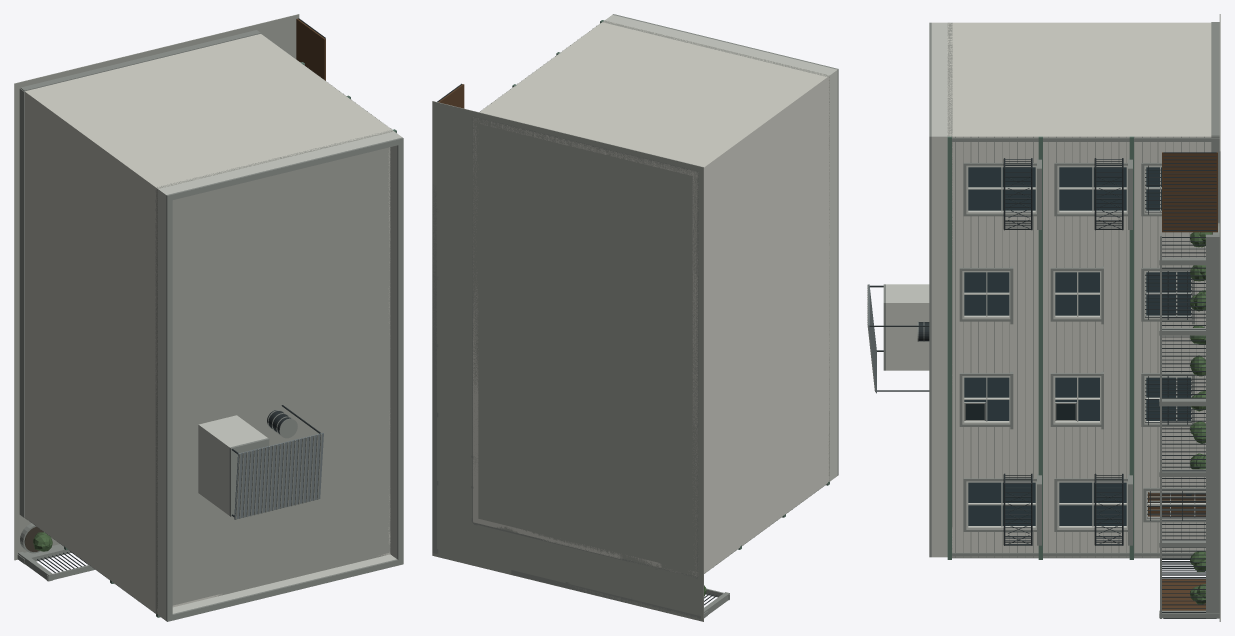
Rendered from 03_corner.obj.
3 renders of one model, left to right at view 1: azimuth 30°, elevation 25°; view 2: azimuth 150°, elevation 25°; view 3: azimuth 270°, elevation 25°, orthographic. The views are drawn at different scales.
Visible parts, largest first — view 1: roof_slab_19224, wall_36, wall_12, parapet_19236, parapet_cap_19268, lot_paving_0, canopy_sheet_19356, rooftop_room_19300, plinth_48, plinth_24, gate_26796, rooftop_room_cap_19332; view 2: lot_paving_0, wall_36, wall_12, parapet_19236, boundary_base_25500, parapet_cap_19268, roof_slab_19224, boundary_base_21416; view 3: wall_12, parapet_19236, boundary_base_25500, gate_26796, rooftop_room_19300, balcony_window_panel_14544, balcony_window_panel_17780, balcony_window_panel_16000, balcony_window_panel_12764, wall_9404, wall_9584, wall_8552 (+63 smaller).
Boxes of the visible parts, left/top/right/bottom form: roof_slab_19224: left=155, top=130, right=393, bottom=614; wall_36: left=24, top=90, right=158, bottom=611; wall_12: left=24, top=34, right=393, bottom=192; parapet_19236: left=158, top=131, right=402, bottom=620; parapet_cap_19268: left=166, top=137, right=403, bottom=621; lot_paving_0: left=14, top=14, right=299, bottom=560; canopy_sheet_19356: left=234, top=432, right=323, bottom=519; rooftop_room_19300: left=198, top=415, right=267, bottom=515; plinth_48: left=19, top=88, right=24, bottom=517; plinth_24: left=20, top=30, right=260, bottom=91; gate_26796: left=296, top=18, right=325, bottom=80; rooftop_room_cap_19332: left=229, top=438, right=269, bottom=516; lot_paving_0: left=432, top=101, right=703, bottom=621; wall_36: left=692, top=76, right=829, bottom=575; wall_12: left=475, top=21, right=829, bottom=177; parapet_19236: left=605, top=15, right=837, bottom=481; boundary_base_25500: left=432, top=184, right=436, bottom=553; parapet_cap_19268: left=612, top=14, right=838, bottom=475; roof_slab_19224: left=602, top=20, right=829, bottom=480; boundary_base_21416: left=511, top=570, right=707, bottom=618; wall_12: left=947, top=22, right=1211, bottom=142; parapet_19236: left=931, top=22, right=947, bottom=557; boundary_base_25500: left=1206, top=234, right=1219, bottom=618; gate_26796: left=1162, top=152, right=1217, bottom=232; rooftop_room_19300: left=886, top=284, right=929, bottom=370; balcony_window_panel_14544: left=1059, top=167, right=1126, bottom=210; balcony_window_panel_17780: left=968, top=167, right=1035, bottom=210; balcony_window_panel_16000: left=968, top=482, right=1035, bottom=525; balcony_window_panel_12764: left=1059, top=482, right=1126, bottom=525; wall_9404: left=1057, top=321, right=1101, bottom=372; wall_9584: left=966, top=321, right=1010, bottom=372; wall_8552: left=1057, top=427, right=1101, bottom=478.
Size of the model in its own units: 10 by 16 by 10.88.
